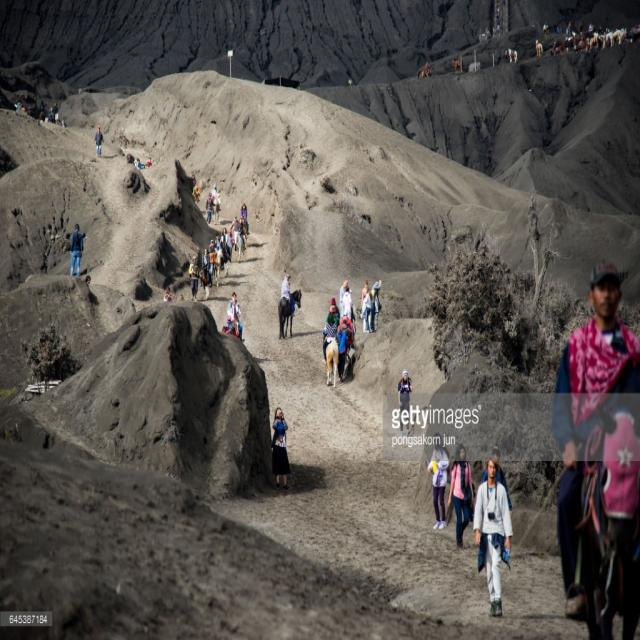body: (550, 256, 640, 620), (471, 456, 513, 616), (446, 441, 476, 549), (541, 22, 640, 50), (426, 430, 451, 530), (483, 447, 513, 519), (271, 406, 291, 492), (14, 96, 67, 125), (321, 310, 342, 366), (398, 368, 413, 437), (226, 290, 245, 344), (68, 222, 84, 279), (333, 324, 348, 384), (322, 304, 339, 352), (280, 272, 296, 318), (359, 285, 373, 333), (208, 182, 224, 223), (188, 256, 201, 304), (199, 246, 212, 287), (372, 280, 382, 332), (228, 213, 242, 250), (126, 151, 152, 169), (213, 230, 224, 272), (234, 217, 247, 252), (339, 278, 349, 322), (79, 276, 93, 306), (207, 243, 217, 282), (94, 124, 105, 158), (163, 285, 185, 302), (196, 247, 205, 288), (221, 314, 237, 336), (206, 194, 217, 225), (342, 286, 352, 320), (360, 278, 370, 312), (240, 202, 250, 235), (189, 172, 200, 202), (368, 272, 378, 304), (419, 58, 433, 80), (328, 296, 341, 319), (492, 5, 503, 29), (226, 229, 233, 263), (234, 219, 240, 252), (38, 99, 48, 118), (220, 226, 228, 246), (51, 102, 59, 115), (210, 239, 218, 252)
